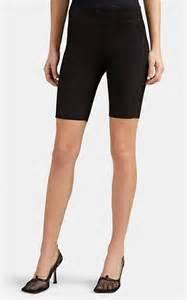short: (56, 0, 151, 121)
